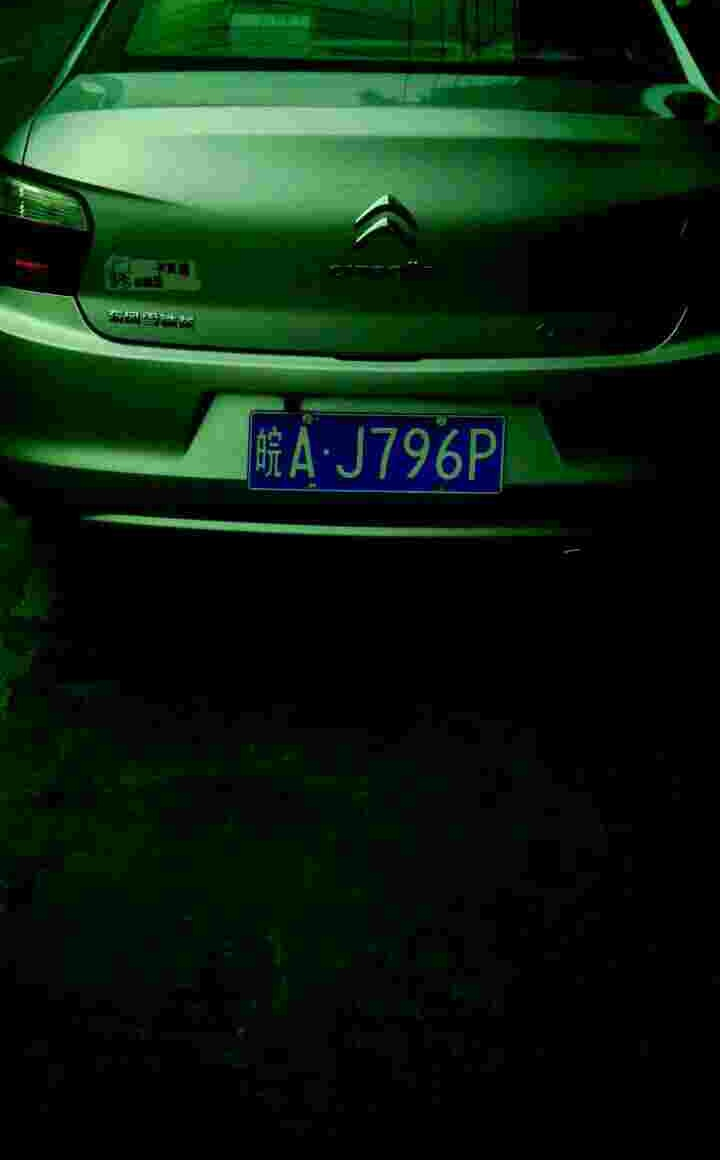license_plate: (253, 420, 516, 501)
